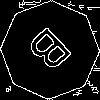B: (25, 25, 81, 81)
